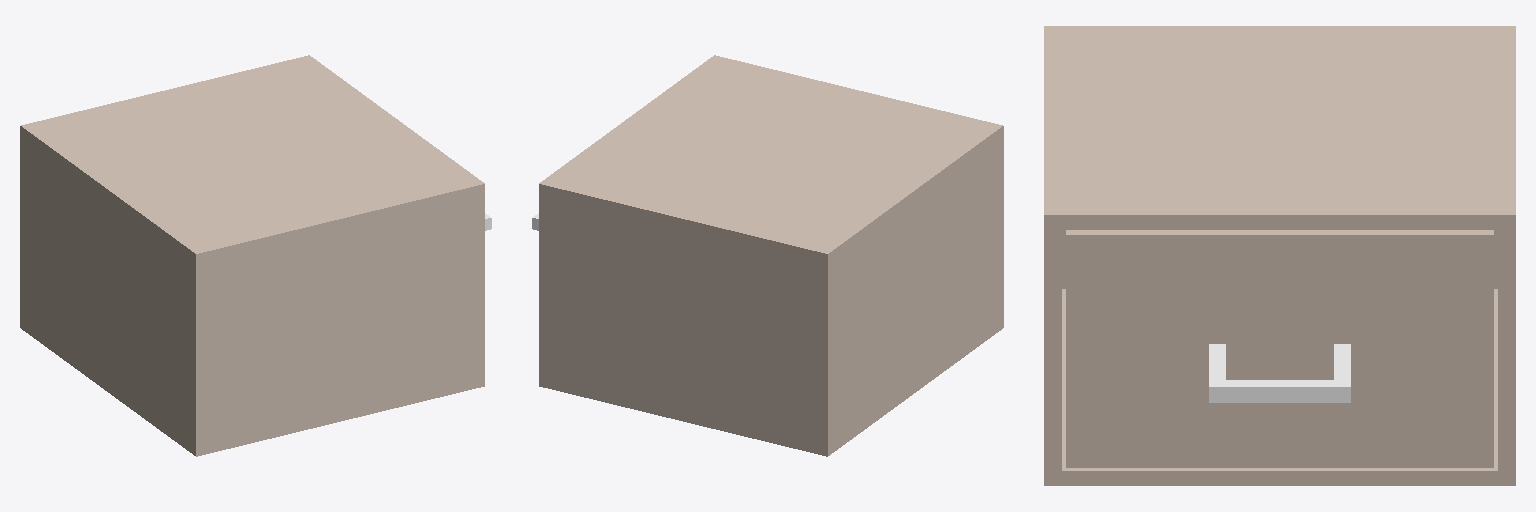
robot.urdf — drawer:
<?xml version="1.0" encoding="utf-8"?>
<!-- =================================================================================== -->
<!-- |    This document was autogenerated by xacro from drawer_one_sided_handle.xacro  | -->
<!-- |    EDITING THIS FILE BY HAND IS NOT RECOMMENDED                                 | -->
<!-- =================================================================================== -->
<robot name="drawer">
  <material name="omni/Blue">
    <color rgba="0 0 0.8 1"/>
  </material>
  <material name="omni/Red">
    <color rgba="1 0 0 1"/>
  </material>
  <material name="omni/White">
    <color rgba="1 1 1 1"/>
  </material>
  <material name="omni/Green">
    <color rgba="0 1 0 1"/>
  </material>
  <material name="omni/Yellow">
    <color rgba="1 1 0 1"/>
  </material>
  <material name="omni/LightGrey">
    <color rgba="0.6 0.6 0.6 1"/>
  </material>
  <material name="omni/DarkGrey">
    <color rgba="0.4 0.4 0.4 1"/>
  </material>
  <material name="brown">
    <color rgba="0.87 0.81 0.76 1.0"/>
  </material>
  <!-- RVIZ Configuration -->
  <link name="base_link"/>
  <joint name="base_link__drawer" type="prismatic">
    <origin rpy="0 0 0" xyz="0 0 0"/>
    <parent link="base_link"/>
    <child link="drawer"/>
    <dynamics damping="1.0" friction="1.0"/>
    <limit effort="0.1" lower="0.0" upper="0.5" velocity="10.0"/>
    <axis xyz="1 0 0"/>
  </joint>
  <link name="drawer">
    <visual>
      <origin rpy="0 0 0" xyz="0 0 0"/>
      <geometry>
        <box size="0.5 0.5 0.3"/>
      </geometry>
      <material name="brown"/>
    </visual>
    <collision>
      <origin rpy="0 0 0" xyz="0 0 0"/>
      <geometry>
        <box size="0.5 0.5 0.3"/>
      </geometry>
      <contact_coefficients mu="0.0"/>
    </collision>
    <inertial>
      <!-- CENTER OF MASS -->
      <origin rpy="0 0 0" xyz="0 0 0"/>
      <mass value="0.1"/>
      <!-- box inertia: 1/12*m(y^2+z^2), ... -->
      <inertia ixx="0.017" ixy="0" ixz="0" iyy="0.017" iyz="0" izz="0.025"/>
    </inertial>
  </link>
  <gazebo reference="drawer">
    <material>Gazebo/Wood</material>
  </gazebo>
  <joint name="base_link__left_wall" type="fixed">
    <origin rpy="0 0 0" xyz="-0.005 -0.265 0"/>
    <parent link="base_link"/>
    <child link="left_wall"/>
  </joint>
  <link name="left_wall">
    <visual>
      <origin rpy="0 0 0" xyz="0 0 0"/>
      <geometry>
        <box size="0.505 0.02 0.31"/>
      </geometry>
      <material name="brown"/>
    </visual>
    <collision>
      <origin rpy="0 0 0" xyz="0 0 0.0"/>
      <geometry>
        <box size="0.505 0.02 0.31"/>
      </geometry>
    </collision>
    <inertial>
      <!-- CENTER OF MASS -->
      <origin rpy="0 0 0" xyz="0 0 0"/>
      <mass value="0.05"/>
      <!-- box inertia: 1/12*m(y^2+z^2), ... -->
      <inertia ixx="0.0024125" ixy="0" ixz="0" iyy="0.008778125" iyz="0" izz="0.006385625"/>
    </inertial>
  </link>
  <joint name="base_link__right_wall" type="fixed">
    <origin rpy="0 0 0" xyz="-0.005 0.265 0"/>
    <parent link="base_link"/>
    <child link="right_wall"/>
  </joint>
  <link name="right_wall">
    <visual>
      <origin rpy="0 0 0" xyz="0 0 0"/>
      <geometry>
        <box size="0.505 0.02 0.31"/>
      </geometry>
      <material name="brown"/>
    </visual>
    <collision>
      <origin rpy="0 0 0" xyz="0 0 0.0"/>
      <geometry>
        <box size="0.505 0.02 0.31"/>
      </geometry>
    </collision>
    <inertial>
      <!-- CENTER OF MASS -->
      <origin rpy="0 0 0" xyz="0 0 0"/>
      <mass value="0.05"/>
      <!-- box inertia: 1/12*m(y^2+z^2), ... -->
      <inertia ixx="0.0024125" ixy="0" ixz="0" iyy="0.008778125" iyz="0" izz="0.006385625"/>
    </inertial>
  </link>
  <joint name="base_link__bottom_wall" type="fixed">
    <origin rpy="0 0 0" xyz="-0.005 0 -0.165"/>
    <parent link="base_link"/>
    <child link="bottom_wall"/>
  </joint>
  <link name="bottom_wall">
    <visual>
      <origin rpy="0 0 0" xyz="0 0 0"/>
      <geometry>
        <box size="0.505 0.55 0.02"/>
      </geometry>
      <material name="brown"/>
    </visual>
    <collision>
      <origin rpy="0 0 0" xyz="0 0 0.0"/>
      <geometry>
        <box size="0.505 0.55 0.02"/>
      </geometry>
    </collision>
    <inertial>
      <!-- CENTER OF MASS -->
      <origin rpy="0 0 0" xyz="0 0 0"/>
      <mass value="0.05"/>
      <!-- box inertia: 1/12*m(y^2+z^2), ... -->
      <inertia ixx="0.0075725" ixy="0" ixz="0" iyy="0.006385625" iyz="0" izz="0.013938125"/>
    </inertial>
  </link>
  <joint name="base_link__top_wall" type="fixed">
    <origin rpy="0 0 0" xyz="-0.005 0 0.165"/>
    <parent link="base_link"/>
    <child link="top_wall"/>
  </joint>
  <link name="top_wall">
    <visual>
      <origin rpy="0 0 0" xyz="0 0 0"/>
      <geometry>
        <box size="0.505 0.55 0.02"/>
      </geometry>
      <material name="brown"/>
    </visual>
    <collision>
      <origin rpy="0 0 0" xyz="0 0 0.0"/>
      <geometry>
        <box size="0.505 0.55 0.02"/>
      </geometry>
    </collision>
    <inertial>
      <!-- CENTER OF MASS -->
      <origin rpy="0 0 0" xyz="0 0 0"/>
      <mass value="0.05"/>
      <!-- box inertia: 1/12*m(y^2+z^2), ... -->
      <inertia ixx="0.0075725" ixy="0" ixz="0" iyy="0.006385625" iyz="0" izz="0.013938125"/>
    </inertial>
  </link>
  <joint name="base_link__back_wall" type="fixed">
    <origin rpy="0 0 0" xyz="-0.265 0 0"/>
    <parent link="base_link"/>
    <child link="back_wall"/>
  </joint>
  <link name="back_wall">
    <visual>
      <origin rpy="0 0 0" xyz="0 0 0"/>
      <geometry>
        <box size="0.02 0.55 0.35"/>
      </geometry>
      <material name="brown"/>
    </visual>
    <collision>
      <origin rpy="0 0 0" xyz="0 0 0.0"/>
      <geometry>
        <box size="0.02 0.55 0.35"/>
      </geometry>
    </collision>
    <inertial>
      <!-- CENTER OF MASS -->
      <origin rpy="0 0 0" xyz="0 0 0"/>
      <mass value="0.05"/>
      <!-- box inertia: 1/12*m(y^2+z^2), ... -->
      <inertia ixx="0.010625" ixy="0" ixz="0" iyy="0.0030725" iyz="0" izz="0.015125"/>
    </inertial>
  </link>
  <joint name="drawer__handle_left" type="fixed">
    <origin rpy="0 0 0" xyz="0.3 -0.0725 0"/>
    <parent link="drawer"/>
    <child link="handle_left"/>
  </joint>
  <link name="handle_left">
    <visual>
      <origin rpy="0 0 0" xyz="0 0 0"/>
      <geometry>
        <box size="0.1 0.02 0.02"/>
      </geometry>
      <material name="omni/White"/>
    </visual>
    <collision>
      <origin rpy="0 0 0" xyz="0 0 0.0"/>
      <geometry>
        <box size="0.1 0.02 0.02"/>
      </geometry>
    </collision>
    <inertial>
      <!-- CENTER OF MASS -->
      <origin rpy="0 0 0" xyz="0 0 0"/>
      <mass value="0.05"/>
      <!-- box inertia: 1/12*m(y^2+z^2), ... -->
      <inertia ixx="2e-05" ixy="0" ixz="0" iyy="0.00026" iyz="0" izz="0.00026"/>
    </inertial>
  </link>
  <joint name="drawer__handle_right" type="fixed">
    <origin rpy="0 0 0" xyz="0.3 0.0725 0"/>
    <parent link="drawer"/>
    <child link="handle_right"/>
  </joint>
  <link name="handle_right">
    <visual>
      <origin rpy="0 0 0" xyz="0 0 0"/>
      <geometry>
        <box size="0.1 0.02 0.02"/>
      </geometry>
      <material name="omni/White"/>
    </visual>
    <collision>
      <origin rpy="0 0 0" xyz="0 0 0.0"/>
      <geometry>
        <box size="0.1 0.02 0.02"/>
      </geometry>
    </collision>
    <inertial>
      <!-- CENTER OF MASS -->
      <origin rpy="0 0 0" xyz="0 0 0"/>
      <mass value="0.05"/>
      <!-- box inertia: 1/12*m(y^2+z^2), ... -->
      <inertia ixx="2e-05" ixy="0" ixz="0" iyy="0.00026" iyz="0" izz="0.00026"/>
    </inertial>
  </link>
  <joint name="drawer__handle_grip" type="fixed">
    <origin rpy="0 0 0" xyz="0.36 0 0"/>
    <parent link="drawer"/>
    <child link="handle_grip"/>
  </joint>
  <link name="handle_grip">
    <visual>
      <origin rpy="0 0 0" xyz="0 0 0"/>
      <geometry>
        <box size="0.02 0.165 0.02"/>
      </geometry>
      <material name="omni/White"/>
    </visual>
    <collision>
      <origin rpy="0 0 0" xyz="0 0 0.0"/>
      <geometry>
        <box size="0.02 0.165 0.02"/>
      </geometry>
    </collision>
    <inertial>
      <!-- CENTER OF MASS -->
      <origin rpy="0 0 0" xyz="0 0 0"/>
      <mass value="0.05"/>
      <!-- box inertia: 1/12*m(y^2+z^2), ... -->
      <inertia ixx="0.000690625" ixy="0" ixz="0" iyy="2e-05" iyz="0" izz="0.000690625"/>
    </inertial>
  </link>
</robot>

--- Facts derived from the render (not from the file) ---
Views: 3 orthographic renders of the robot side by side, from view 1: azimuth 30°, elevation 25°; view 2: azimuth 150°, elevation 25°; view 3: azimuth 270°, elevation 25°.
Model drawer with 10 links and 9 joints (1 prismatic, 8 fixed), rooted at base_link, posed every joint at zero.
Visible links, largest first — view 1: top_wall, left_wall, back_wall, bottom_wall; view 2: top_wall, right_wall, back_wall, bottom_wall; view 3: drawer, top_wall, bottom_wall, left_wall, right_wall, back_wall, handle_grip, handle_left, handle_right.
Link boxes in pixels (x1=…): top_wall: x1=30, y1=55, x2=484, y2=262; left_wall: x1=206, y1=195, x2=484, y2=442; back_wall: x1=20, y1=123, x2=206, y2=456; bottom_wall: x1=206, y1=375, x2=484, y2=453; top_wall: x1=539, y1=55, x2=993, y2=262; right_wall: x1=539, y1=195, x2=817, y2=442; back_wall: x1=817, y1=123, x2=1003, y2=456; bottom_wall: x1=539, y1=375, x2=817, y2=453; drawer: x1=1066, y1=230, x2=1493, y2=467; top_wall: x1=1044, y1=32, x2=1515, y2=229; bottom_wall: x1=1044, y1=289, x2=1515, y2=485; left_wall: x1=1044, y1=230, x2=1061, y2=470; right_wall: x1=1498, y1=230, x2=1515, y2=470; back_wall: x1=1044, y1=26, x2=1515, y2=288; handle_grip: x1=1209, y1=380, x2=1350, y2=402; handle_left: x1=1209, y1=344, x2=1225, y2=379; handle_right: x1=1334, y1=344, x2=1350, y2=379.
Size in the robot's own frame: 0.645 by 0.55 by 0.35 metres.
Geometry: primitives only (box / cylinder / sphere), no mesh files.